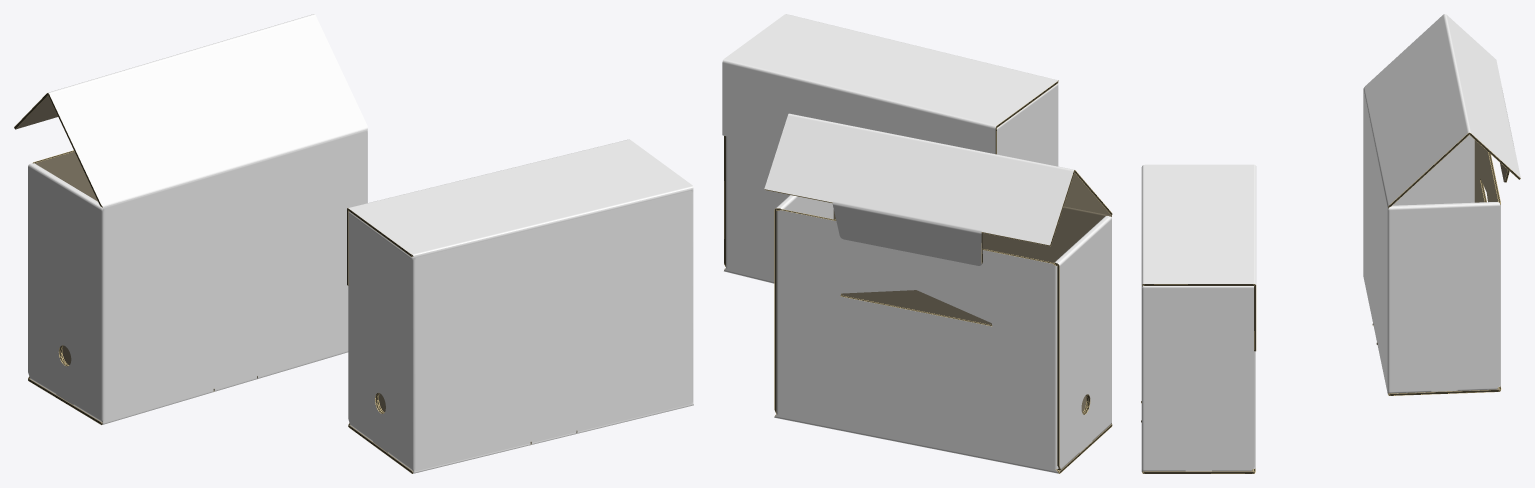
File: Troquel1G0198.gltf
3 views of the same model, side by side, from view 1: azimuth 30°, elevation 25°; view 2: azimuth 150°, elevation 25°; view 3: azimuth 270°, elevation 25° (orthographic). The views are drawn at different scales.
Parts seen in each view (by area): view 1: AAA_ARD-node.001; view 2: AAA_ARD-node.001; view 3: AAA_ARD-node.001.
Part boxes in pixels (x1,y1,x2,y2): AAA_ARD-node.001: (14, 14, 693, 473); AAA_ARD-node.001: (722, 14, 1112, 473); AAA_ARD-node.001: (1141, 14, 1520, 473).
Size of the model in its own units: 0.6323 by 0.381 by 0.5037.
6 materials, 2 textured.
